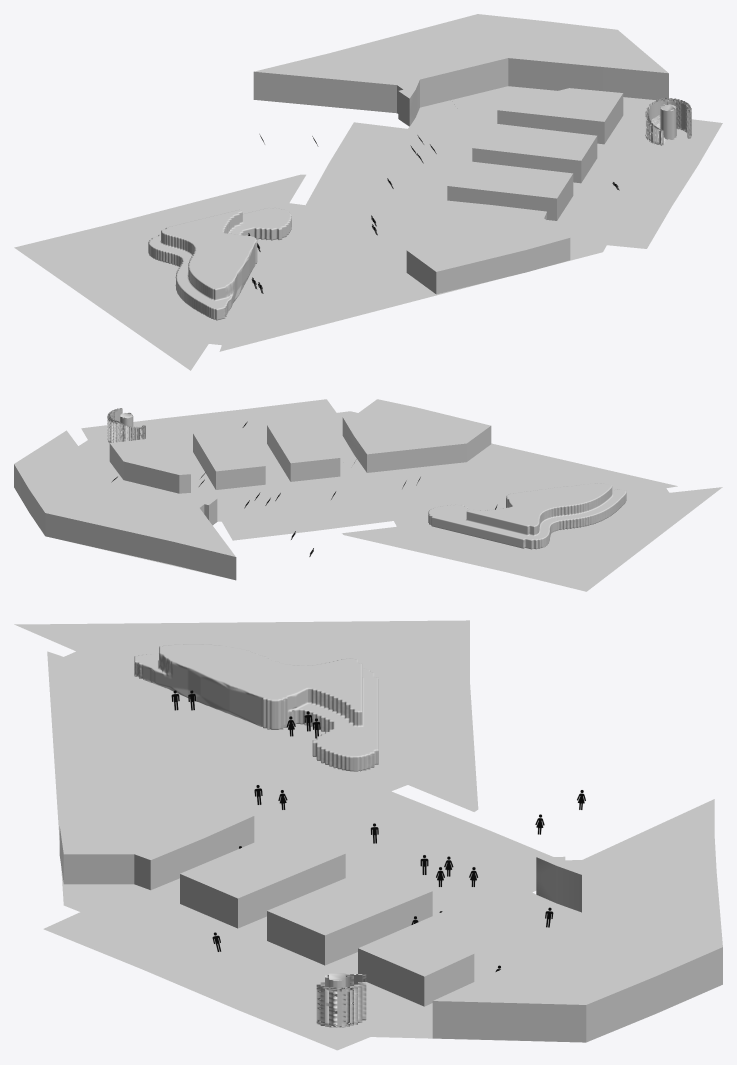
The model's file is chloecampus_cameraselected.glb.
3 renders of one model, top to bottom at view 1: azimuth 30°, elevation 25°; view 2: azimuth 150°, elevation 25°; view 3: azimuth 270°, elevation 25°, orthographic. The views are drawn at different scales.
Visible parts, largest first — view 1: 801 draft, 801 draft fucked curves; view 2: 801 draft, 801 draft fucked curves; view 3: 801 draft, 801 draft fucked curves.
Part boxes in pixels (x1,y1,x2,y2): 801 draft: [14, 14, 722, 370]; 801 draft fucked curves: [148, 207, 291, 320]; 801 draft: [14, 399, 722, 591]; 801 draft fucked curves: [428, 483, 626, 549]; 801 draft: [14, 620, 722, 1050]; 801 draft fucked curves: [134, 644, 378, 771].
Bounding box in the file's own units: 123 × 5.1 × 85.5.
23 materials, 22 textured.
